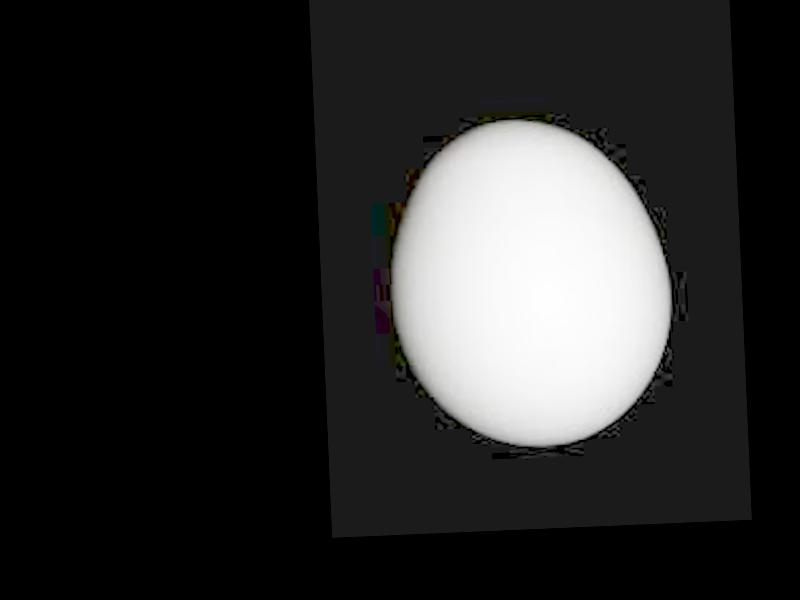Eggs: (392, 118, 674, 453)
